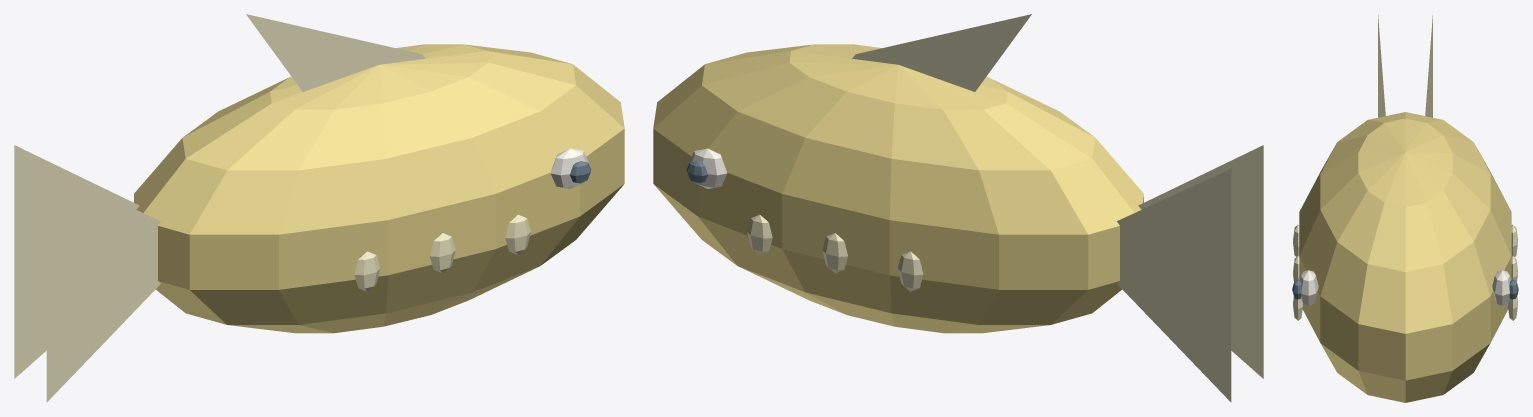
The model's file is pez_dorado.glb.
3 views of the same model, side by side, from view 1: azimuth 30°, elevation 25°; view 2: azimuth 150°, elevation 25°; view 3: azimuth 270°, elevation 25° (orthographic). The views are drawn at different scales.
Visible parts, largest first — view 1: pez_dorado; view 2: pez_dorado; view 3: pez_dorado.
Boxes of the visible parts, x1,y1,x2,y2 form: pez_dorado: (14,14,624,402); pez_dorado: (653,14,1263,402); pez_dorado: (1292,15,1518,402).
Bounding box in the file's own units: 1.37 × 0.735 × 0.538.
